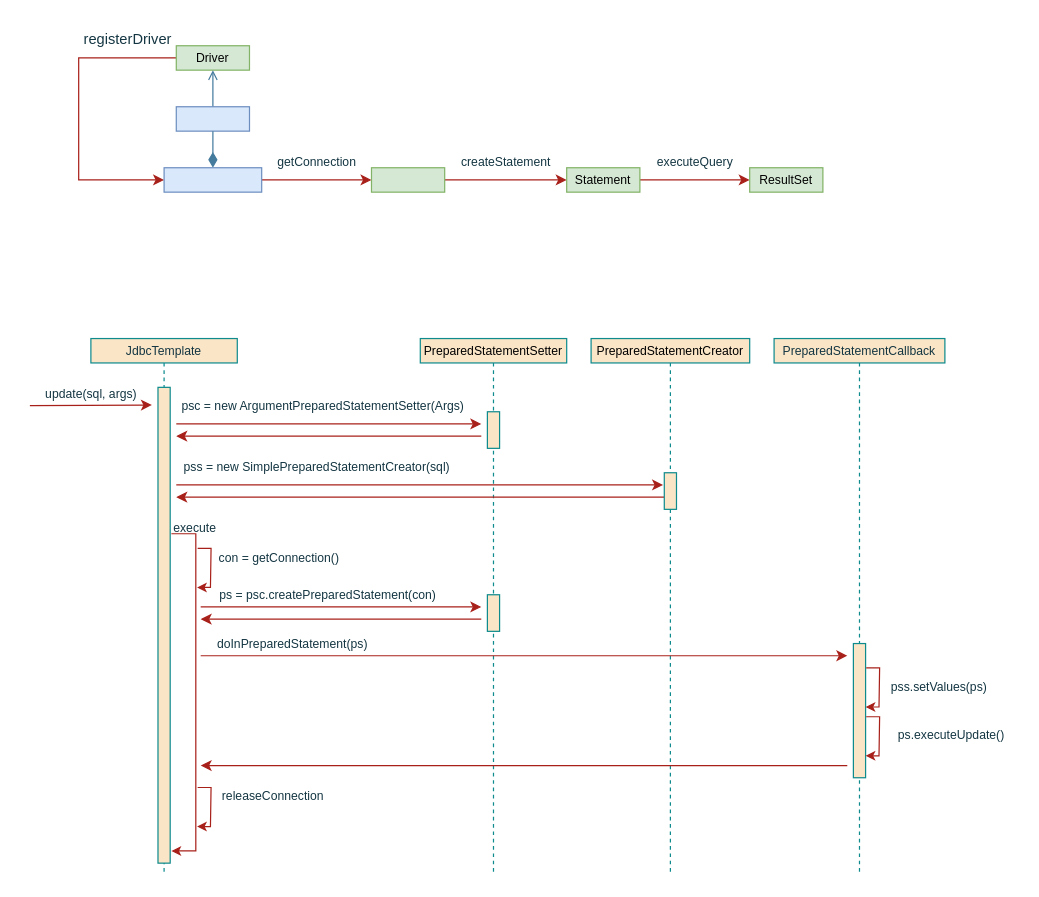
This 1039x897 diagram has some shape labels left out. The centre of each missing label's shape, as x and y in pixels:
Connection: the point at 407,179
DriverInfo: the point at 212,118
DriverManager: the point at 212,179
